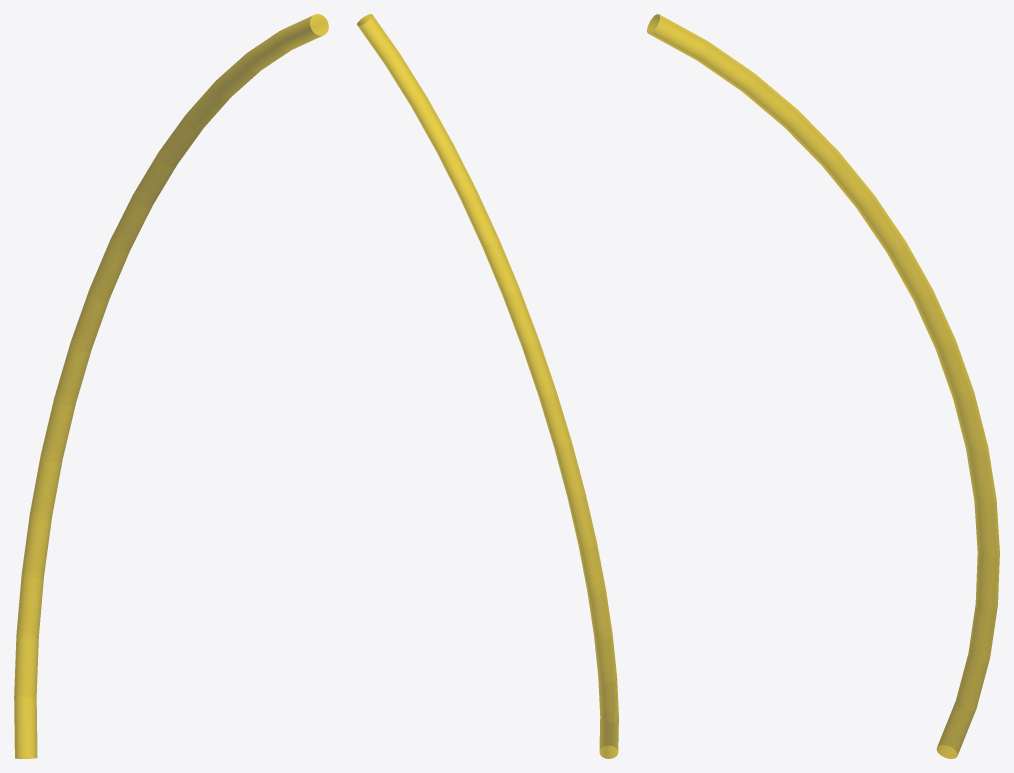
The model's file is Event_27938768_track_13.fbx.
3 renders of one model, left to right at view 1: azimuth 30°, elevation 25°; view 2: azimuth 210°, elevation 25°; view 3: azimuth 270°, elevation 25°, orthographic. The views are drawn at different scales.
Visible parts, largest first — view 1: Model; view 2: Model; view 3: Model.
Boxes of the visible parts, x1,y1,x2,y2 form: Model: [14, 14, 328, 758]; Model: [357, 14, 618, 758]; Model: [647, 14, 999, 758].
Size of the model in its own units: 0.3356 by 1.6 by 0.6323.
